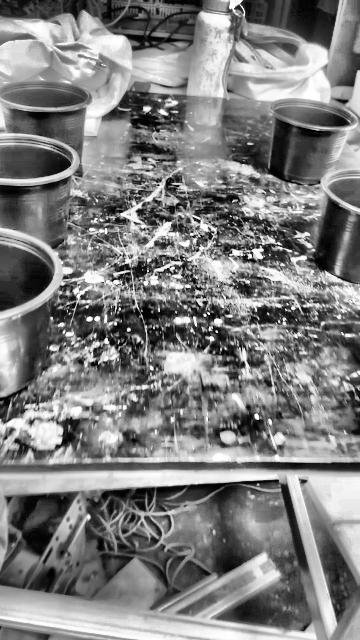pot: (0, 229, 62, 399), (0, 133, 79, 247), (269, 99, 357, 185), (0, 81, 91, 160), (317, 171, 360, 285)
